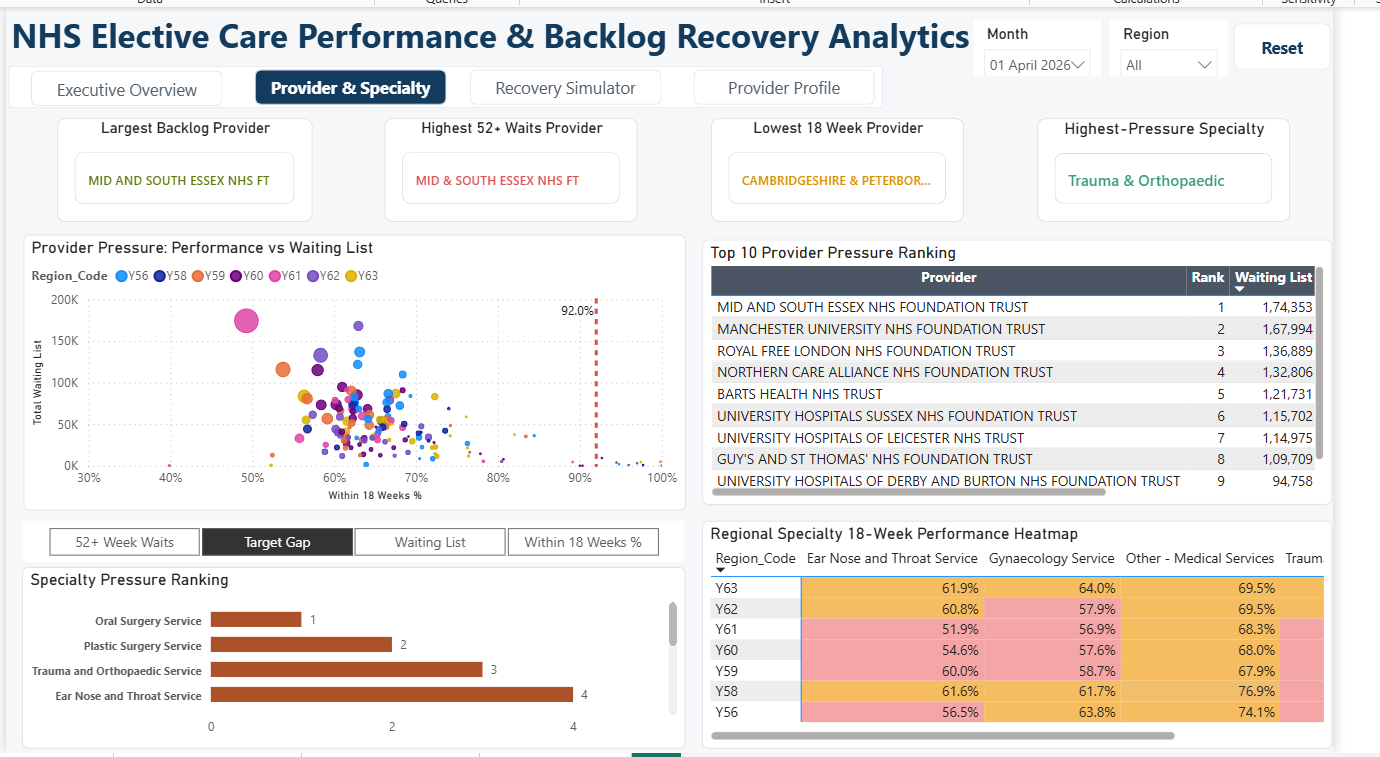

The page's visual inventory and layout, read from the dashboard file:
{"tool":"powerbi","page":{"name":"Provider & Specialty","canvas":[1280,720],"ordinal":1},"visuals":[{"type":"shape","box":[3,57,844,41],"z":0},{"type":"textbox","box":[0,0,941,53],"z":1000},{"type":"actionButton","box":[24,62,185,34],"z":2000},{"type":"actionButton","box":[240,60,185,34],"z":3000},{"type":"actionButton","box":[448,60,185,34],"z":4000},{"type":"actionButton","box":[663,60,175,34],"z":5000},{"type":"slicer","fields":{"Values":["Dim_Date.Reporting_Month"]},"box":[934,12,123,55],"z":6000},{"type":"slicer","fields":{"Values":["Dim_Provider.Region_Code"]},"box":[1065,12,114,55],"z":7000},{"type":"actionButton","box":[1185,16,94,45],"z":8000},{"type":"cardVisual","title":"Largest Backlog Provider","fields":{"Data":["_Measures.Largest Waiting List Provider Display"]},"box":[50,107,246,100],"z":9000},{"type":"cardVisual","title":"Highest 52+ Waits Provider","fields":{"Data":["_Measures.Highest 52+ Waits Provider"]},"box":[365,107,244,100],"z":10000},{"type":"cardVisual","title":"Lowest 18 Week Provider","fields":{"Data":["_Measures.Lowest 18-Week Provider Display"]},"box":[680,107,244,100],"z":11000},{"type":"cardVisual","title":"Highest-Pressure Specialty","fields":{"Data":["_Measures.Highest Pressure Specialty Display"]},"box":[995,107,244,100],"z":12000},{"type":"scatterChart","title":"Provider Pressure: Performance vs Waiting List","fields":{"X":["_Measures.Within 18 Weeks %"],"Y":["_Measures.Total Waiting List"],"Size":["_Measures.52+ Week Waits"],"Category":["Dim_Provider.Provider_Name"],"Series":["Dim_Provider.Region_Code"]},"box":[17,219,639,266],"z":13000},{"type":"tableEx","title":"Top 10 Provider Pressure Ranking","fields":{"Values":["Dim_Provider.Provider_Name","_Measures.Provider Waiting List Rank","_Measures.Total Waiting List","_Measures.Within 18 Weeks %","_Measures.Gap to 92% Target","_Measures.52+ Week Waits","_Measures.Monthly Backlog Change %"]},"box":[672,224,608,256],"z":14000},{"type":"slicer","fields":{"Values":["Parameter.Parameter"]},"box":[16,496,638,40],"z":15000},{"type":"clusteredBarChart","title":"Specialty Pressure Ranking","fields":{"Category":["Dim_Specialty.Treatment_Function"],"Y":["_Measures.Specialty Pressure Rank"]},"box":[16,541,640,175],"z":16000},{"type":"pivotTable","title":"Regional Specialty 18-Week Performance Heatmap","fields":{"Rows":["Dim_Provider.Region_Code"],"Columns":["Dim_Specialty.Treatment_Function"],"Values":["_Measures.Specialty Within 18 Weeks %"]},"box":[672,496,608,220],"z":17000}]}

Visuals, with their boxes on the page's 1280x720 design canvas (x1, y1, x2, y2). These are canvas units, not pixel positions in the 1380x757 screenshot, which may show the page scaled, cropped or inside an application window:
shape: bbox(3, 57, 847, 98)
textbox: bbox(0, 0, 941, 53)
actionButton: bbox(24, 62, 209, 96)
actionButton: bbox(240, 60, 425, 94)
actionButton: bbox(448, 60, 633, 94)
actionButton: bbox(663, 60, 838, 94)
slicer - Dim_Date.Reporting_Month: bbox(934, 12, 1057, 67)
slicer - Dim_Provider.Region_Code: bbox(1065, 12, 1179, 67)
actionButton: bbox(1185, 16, 1279, 61)
"Largest Backlog Provider" cardVisual: bbox(50, 107, 296, 207)
"Highest 52+ Waits Provider" cardVisual: bbox(365, 107, 609, 207)
"Lowest 18 Week Provider" cardVisual: bbox(680, 107, 924, 207)
"Highest-Pressure Specialty" cardVisual: bbox(995, 107, 1239, 207)
"Provider Pressure: Performance vs Waiting List" scatterChart: bbox(17, 219, 656, 485)
"Top 10 Provider Pressure Ranking" tableEx: bbox(672, 224, 1280, 480)
slicer - Parameter.Parameter: bbox(16, 496, 654, 536)
"Specialty Pressure Ranking" clusteredBarChart: bbox(16, 541, 656, 716)
"Regional Specialty 18-Week Performance Heatmap" pivotTable: bbox(672, 496, 1280, 716)
